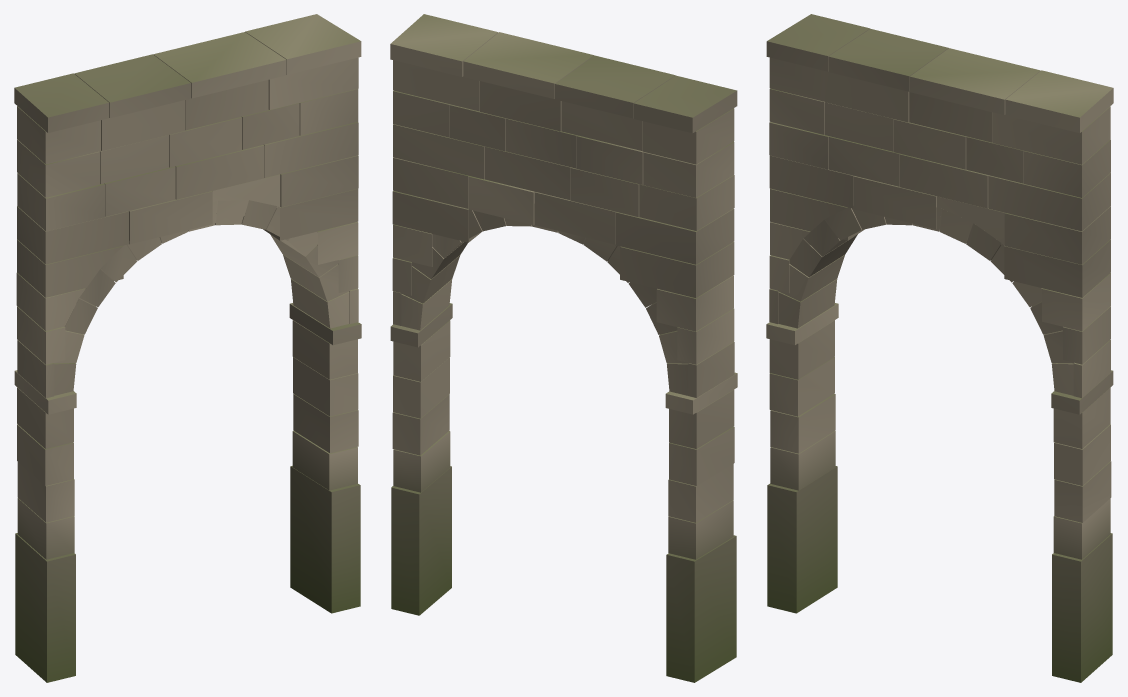
The model's file is arena_inner_a_mid.glb.
The picture shows the model from 3 angles, left to right: view 1: azimuth 30°, elevation 25°; view 2: azimuth 150°, elevation 25°; view 3: azimuth 330°, elevation 25°; orthographic projection.
Parts seen in each view (by area): view 1: arena_inner_a_mid; view 2: arena_inner_a_mid; view 3: arena_inner_a_mid.
Part boxes in pixels (left/top/right/bottom): arena_inner_a_mid: left=14, top=14, right=361, bottom=682; arena_inner_a_mid: left=390, top=14, right=737, bottom=682; arena_inner_a_mid: left=766, top=14, right=1113, bottom=682.
Bounding box in the file's own units: 16.23 × 27.99 × 3.54.
